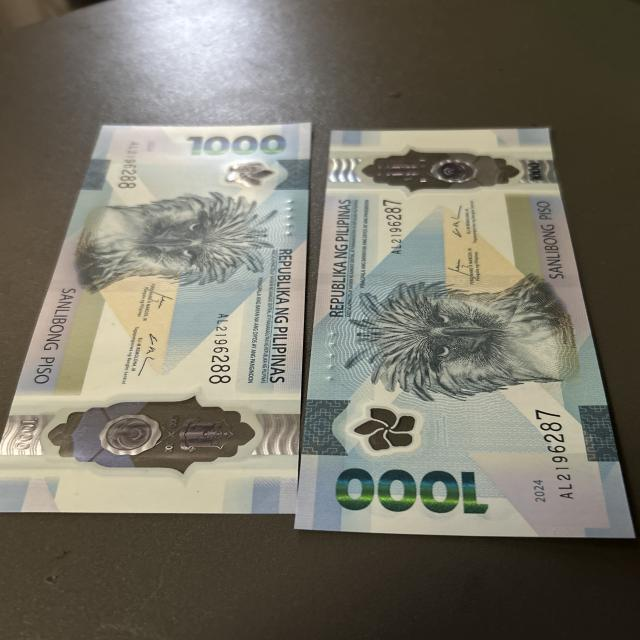clear_window: (26, 393, 251, 477), (350, 147, 534, 196)
eagle: (348, 289, 568, 387), (86, 191, 256, 289)
sampaguita: (344, 394, 448, 459), (207, 162, 284, 193)
serial_number: (528, 402, 596, 510), (198, 302, 236, 394), (371, 204, 411, 259), (118, 131, 150, 197)
